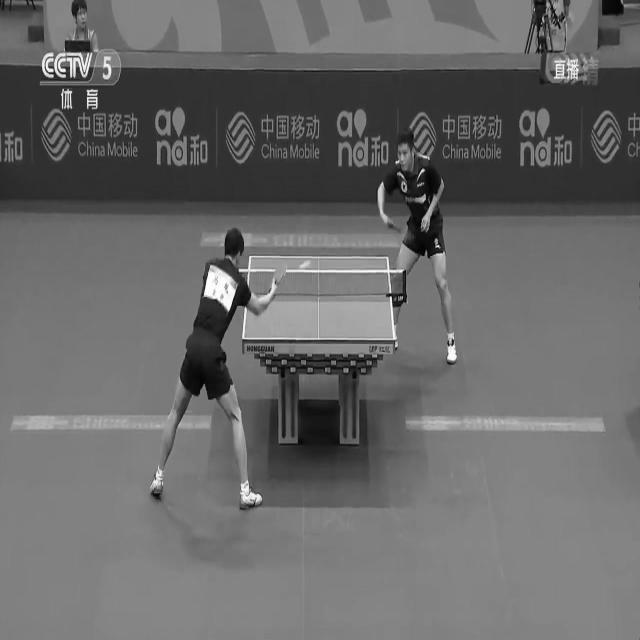ping-pong-ball: (298, 258, 309, 274)
